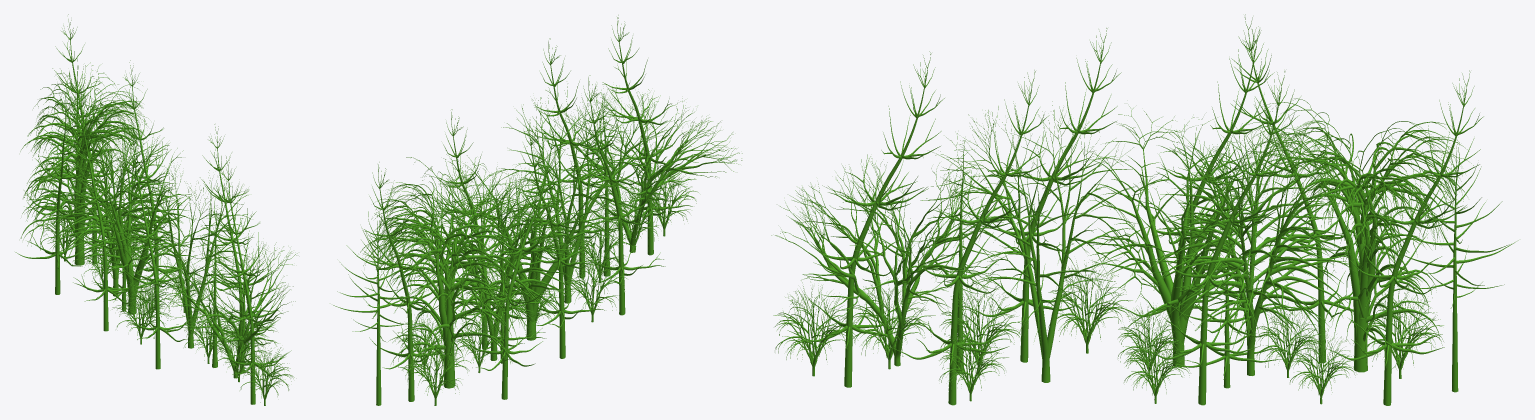
Rendered from seaweeds1.glb.
3 renders of one model, left to right at view 1: azimuth 30°, elevation 25°; view 2: azimuth 150°, elevation 25°; view 3: azimuth 270°, elevation 25°, orthographic. The views are drawn at different scales.
Parts seen in each view (by area): view 1: tree.024; view 2: tree.024; view 3: tree.024.
Part boxes in pixels (left/top/right/bottom): tree.024: left=15, top=14, right=297, bottom=405; tree.024: left=333, top=15, right=742, bottom=405; tree.024: left=771, top=14, right=1518, bottom=405.
Size of the model in its own units: 0.3886 by 0.5968 by 1.2.
